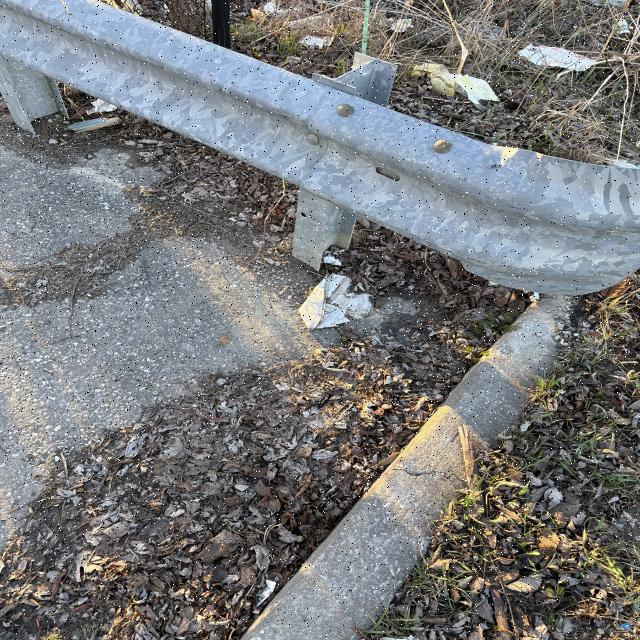Guard rail: (3, 6, 609, 260)
